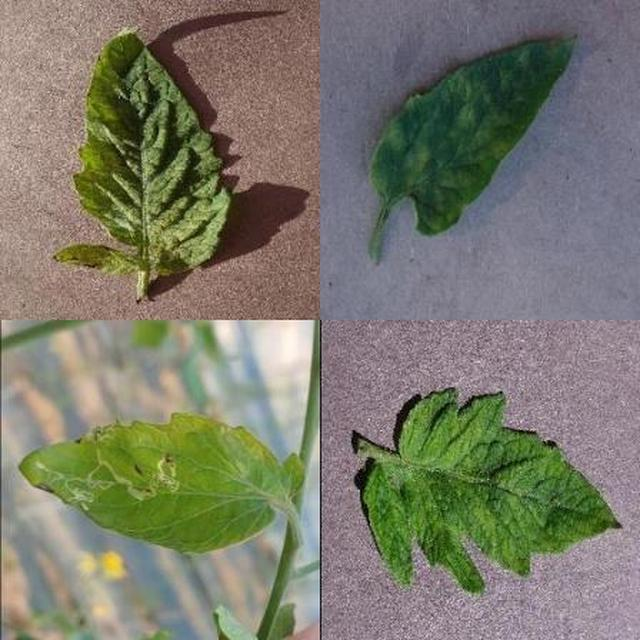Spider Mites Leaf: (203, 192, 640, 640)
